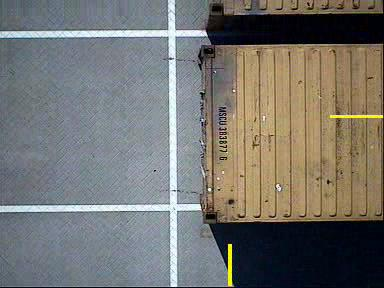groundmarker_2: (72, 52, 165, 113)
